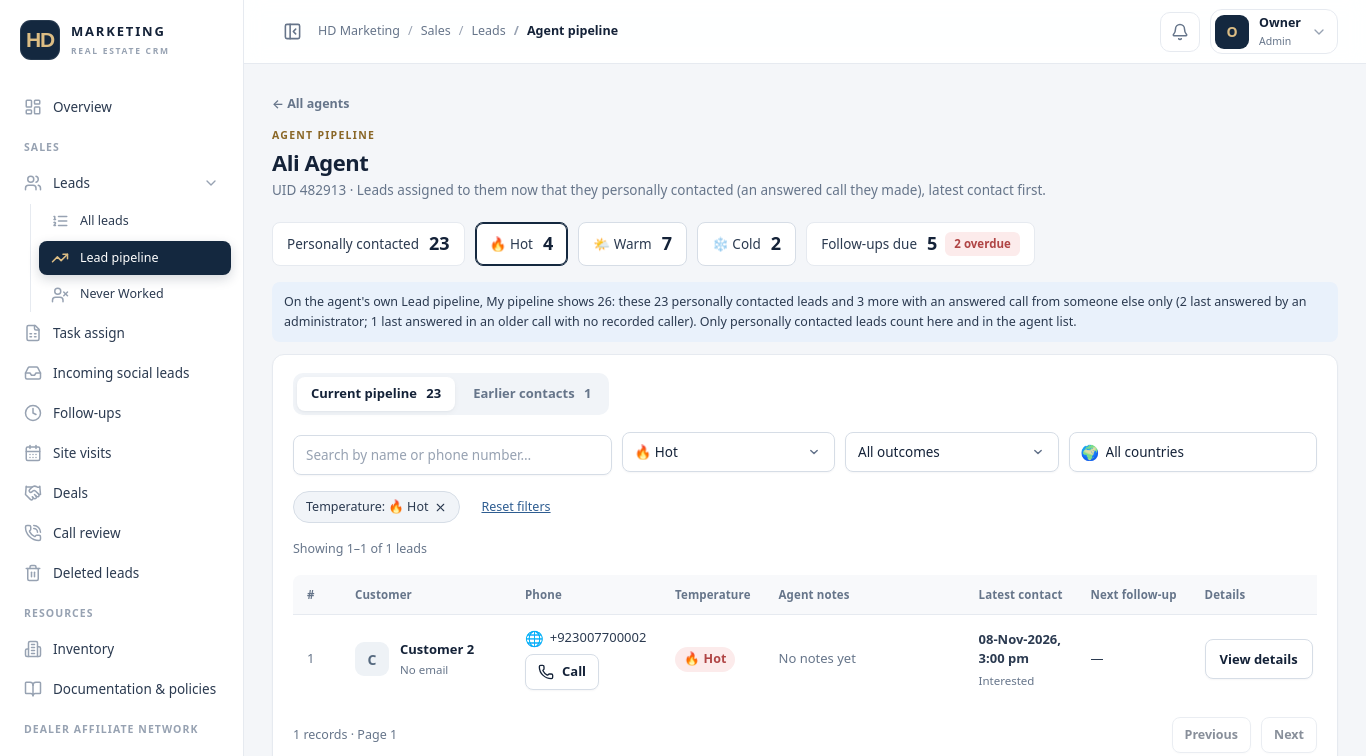
one agent's pipeline › keeps earlier contacts apart, with who has each lead now
Click the tab "Earlier contacts 1" at [532, 394], box [459, 377, 605, 411]
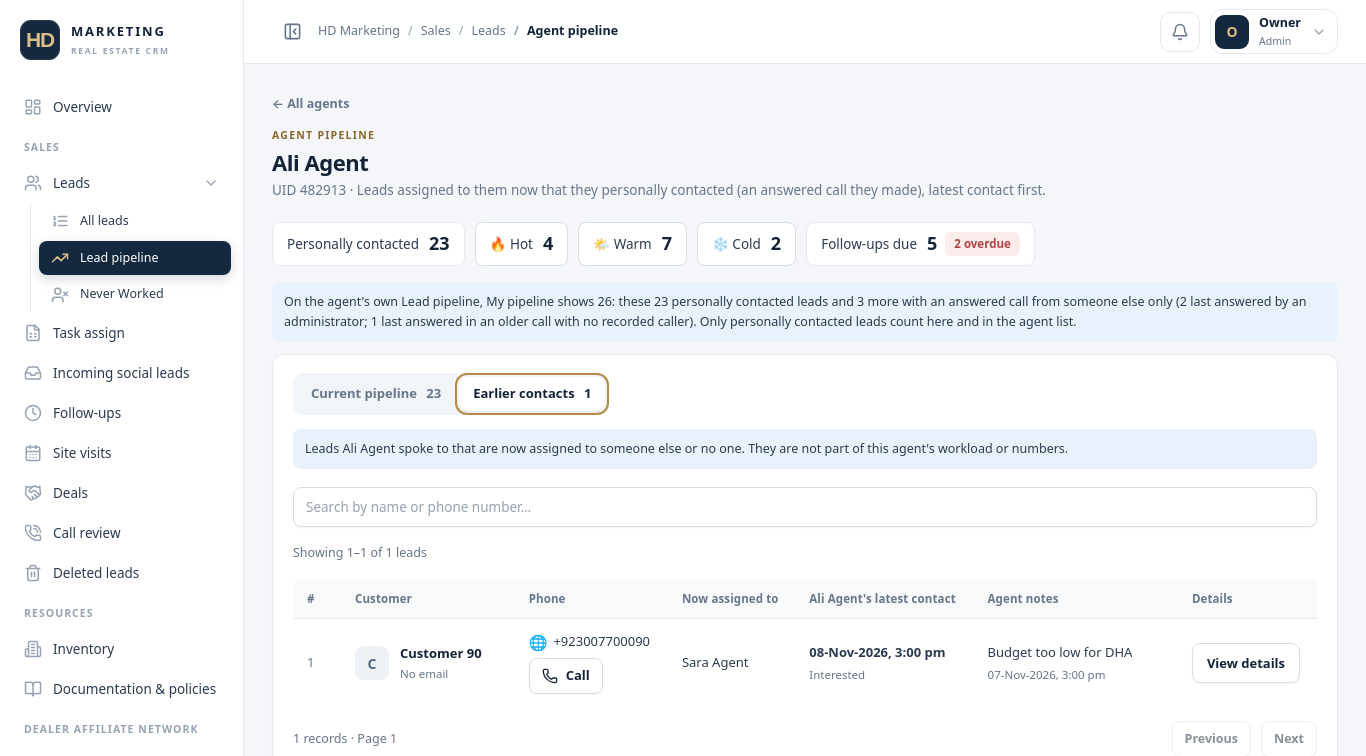
Expected: the dropdown labelled "Filter by temperature" is gone
Expected: the text "not part of this agent's workload" is shown, [395, 440, 1068, 457]
